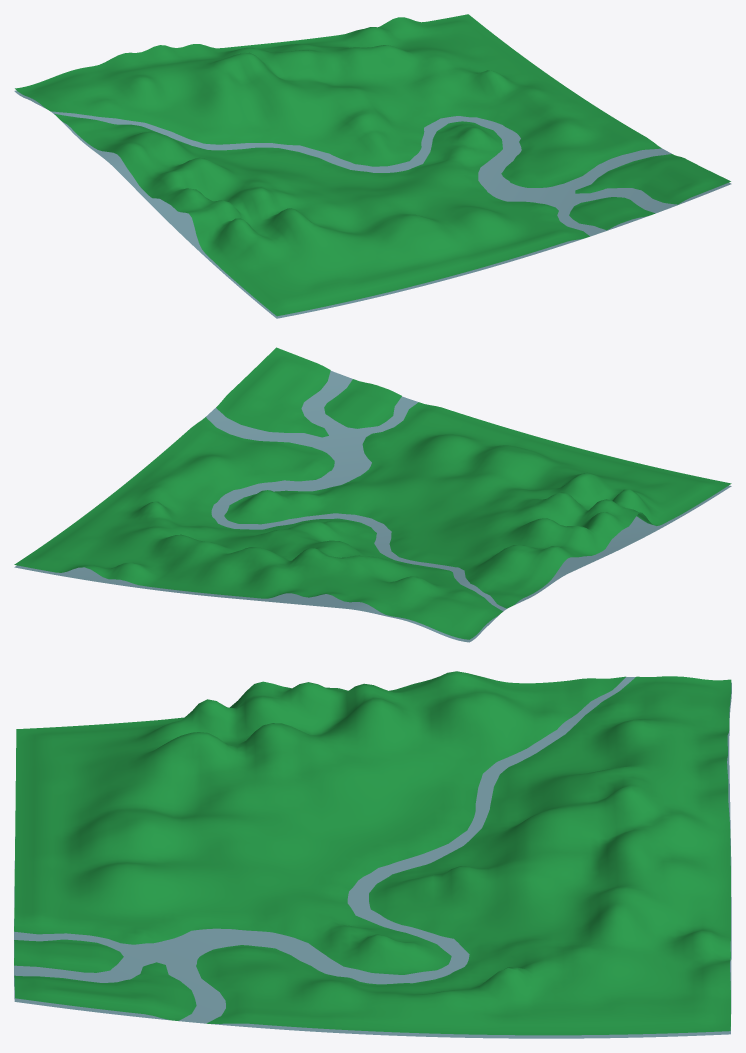
Rendered from env_front_end_map_2.fbx.
3 renders of one model, top to bottom at view 1: azimuth 30°, elevation 25°; view 2: azimuth 150°, elevation 25°; view 3: azimuth 270°, elevation 25°, orthographic. The views are drawn at different scales.
Parts seen in each view (by area): view 1: ground1, pPlane1; view 2: ground1, pPlane1; view 3: ground1, pPlane1.
Boxes of the visible parts, x1,y1,x2,y2 form: ground1: (15, 14, 730, 316); pPlane1: (14, 90, 731, 318); ground1: (14, 347, 731, 639); pPlane1: (14, 371, 731, 642); ground1: (14, 671, 731, 1035); pPlane1: (14, 677, 731, 1038).
Size of the model in its own units: 502 by 59.45 by 502.
